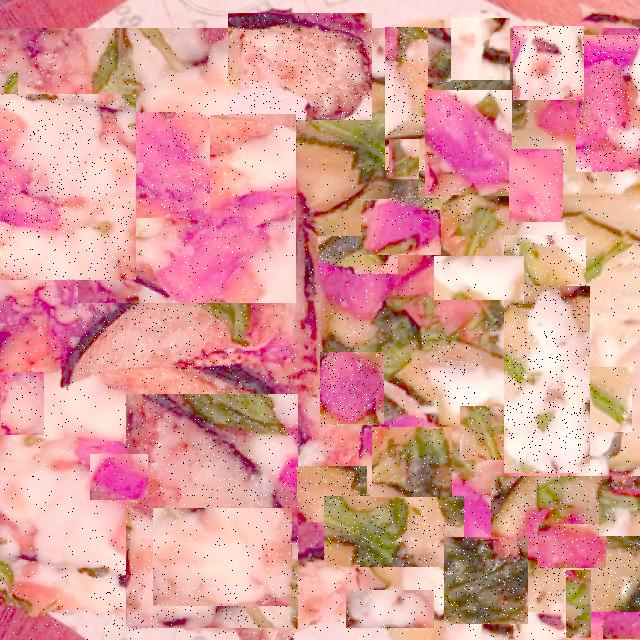Basil: (444, 537, 528, 624), (372, 427, 452, 497), (562, 367, 632, 432), (144, 376, 244, 416), (96, 556, 139, 640), (389, 188, 474, 222), (460, 406, 504, 460), (599, 489, 640, 536), (566, 570, 591, 638), (389, 139, 419, 179), (438, 82, 462, 120), (0, 70, 18, 110)
Cheese: (0, 94, 136, 280), (504, 286, 590, 473), (154, 508, 294, 606), (514, 26, 586, 100), (434, 256, 524, 300), (451, 18, 510, 80), (346, 590, 434, 628), (1, 372, 44, 435)
Eggplant: (78, 115, 296, 303), (126, 394, 298, 628), (491, 476, 640, 612), (228, 13, 372, 122), (78, 280, 230, 374), (324, 496, 464, 567), (385, 27, 428, 170), (504, 235, 586, 297), (297, 466, 367, 522), (318, 236, 398, 274)
Pizza: (0, 28, 640, 640)
Tomato: (113, 112, 210, 218), (425, 90, 512, 196), (576, 35, 640, 172), (320, 352, 384, 424), (361, 199, 441, 255), (410, 334, 469, 406), (509, 150, 563, 223), (538, 524, 606, 568), (90, 454, 148, 500), (603, 614, 640, 639)
